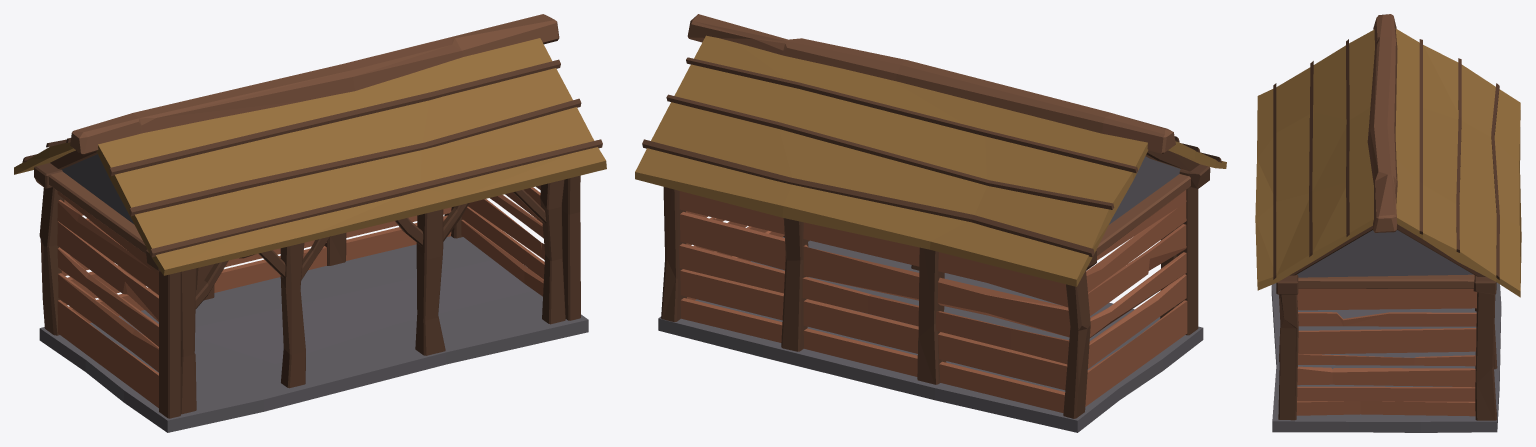
File: Stable.fbx
3 views of the same model, side by side, from view 1: azimuth 30°, elevation 25°; view 2: azimuth 150°, elevation 25°; view 3: azimuth 270°, elevation 25° (orthographic). The views are drawn at different scales.
Parts seen in each view (by area): view 1: Stable; view 2: Stable; view 3: Stable.
Boxes of the visible parts, x1,y1,x2,y2 form: Stable: [14, 14, 606, 432]; Stable: [635, 14, 1226, 432]; Stable: [1255, 14, 1521, 432].
Size of the model in its own units: 9.52 by 5.02 by 5.25.
